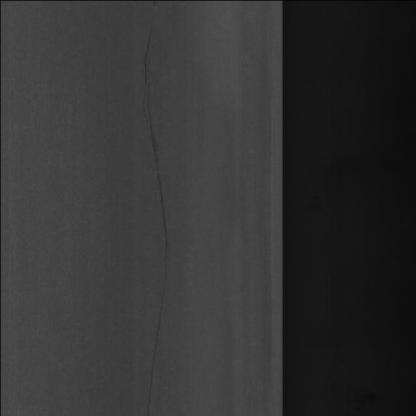water_spot: (125, 21, 172, 381)
